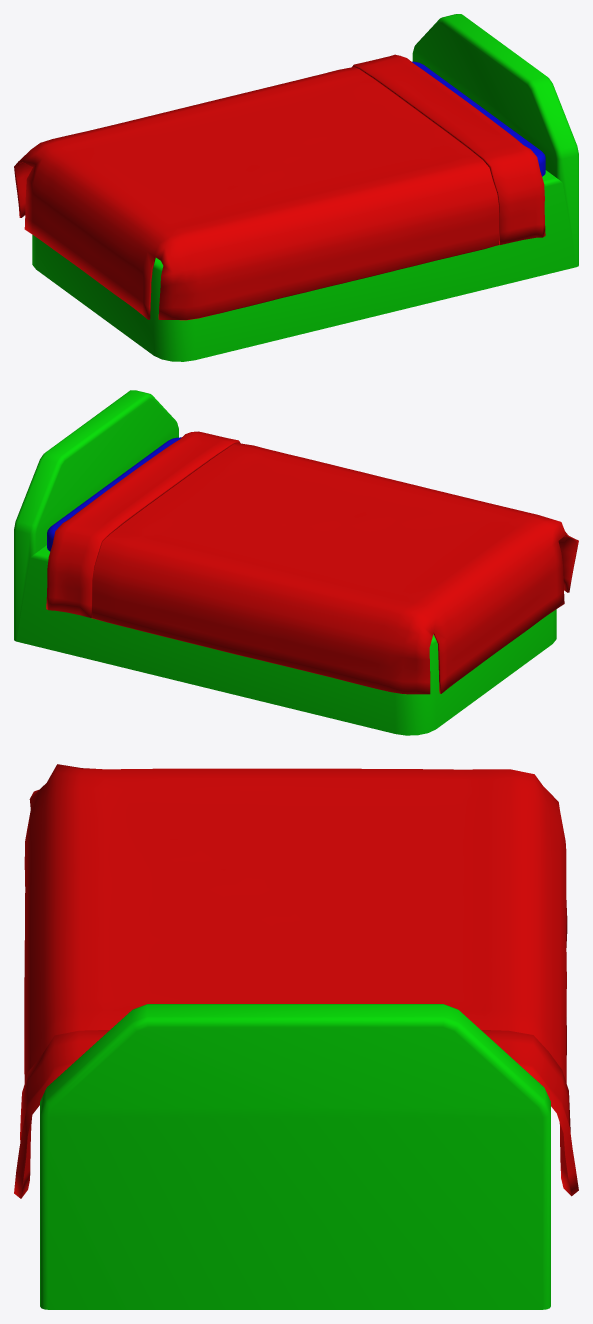
The model's file is Bed.fbx.
3 views of the same model, one above another, from view 1: azimuth 30°, elevation 25°; view 2: azimuth 150°, elevation 25°; view 3: azimuth 270°, elevation 25° (orthographic). The views are drawn at different scales.
Visible parts, largest first — view 1: Bed; view 2: Bed; view 3: Bed.
Boxes of the visible parts, left/top/right/bottom form: Bed: left=14, top=14, right=578, bottom=361; Bed: left=14, top=390, right=578, bottom=735; Bed: left=14, top=764, right=578, bottom=1309.
Bounding box in the file's own units: 221 × 84.05 × 148.
